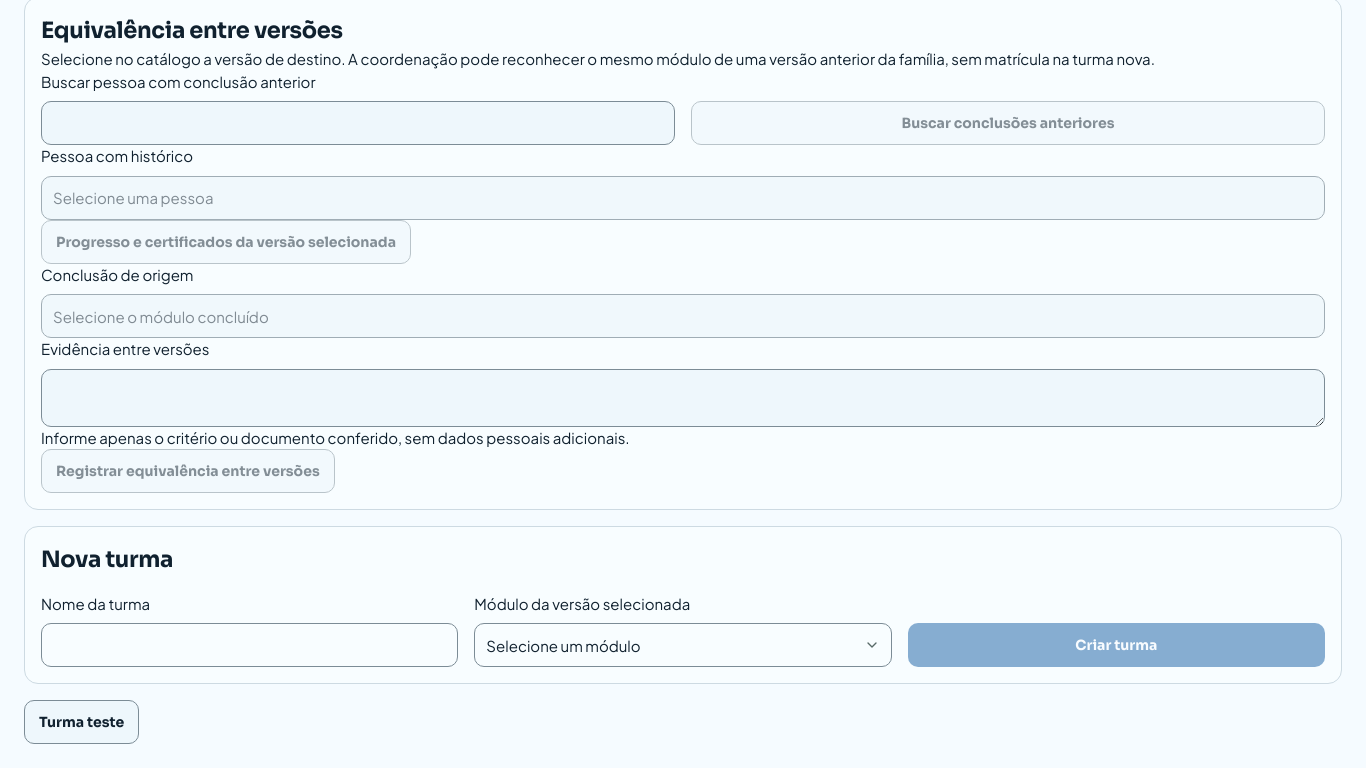
consulta dez aulas e oferece matrícula explícita sem certificado
(page scrolled)
Click the button "Turma teste". click: click(82, 722)
box: [24,700,139,744]
(page scrolled)
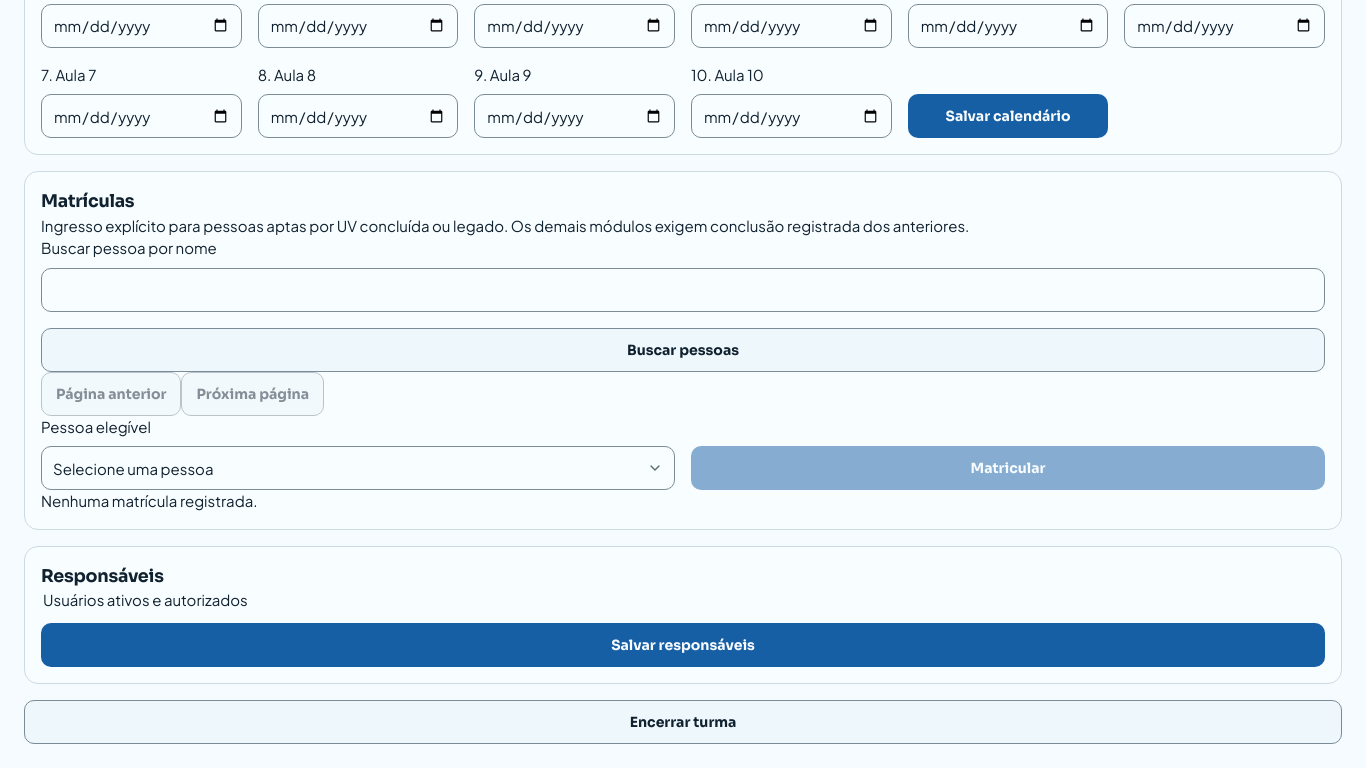
expect the number of date fields is 10: met
expect the button "Matricular" is shown: met, box [691,446,1325,490]
